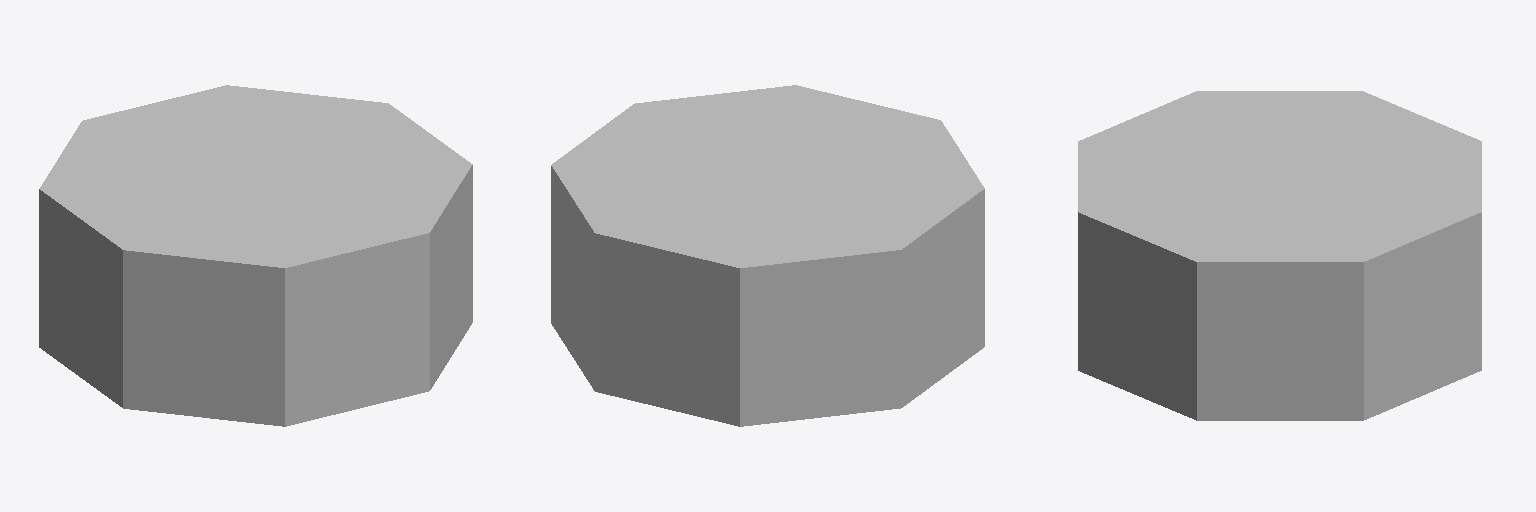
File: HexagonalHallwayShape.obj
3 renders of one model, left to right at view 1: azimuth 30°, elevation 25°; view 2: azimuth 150°, elevation 25°; view 3: azimuth 270°, elevation 25°, orthographic.
Parts seen in each view (by area): view 1: HexagonalHallwayShape; view 2: HexagonalHallwayShape; view 3: HexagonalHallwayShape.
Boxes of the visible parts, x1=… form: HexagonalHallwayShape: x1=39, y1=85, x2=472, y2=426; HexagonalHallwayShape: x1=551, y1=85, x2=984, y2=426; HexagonalHallwayShape: x1=1078, y1=91, x2=1481, y2=420.
Size of the model in its own units: 7.4 by 3.2 by 7.4.